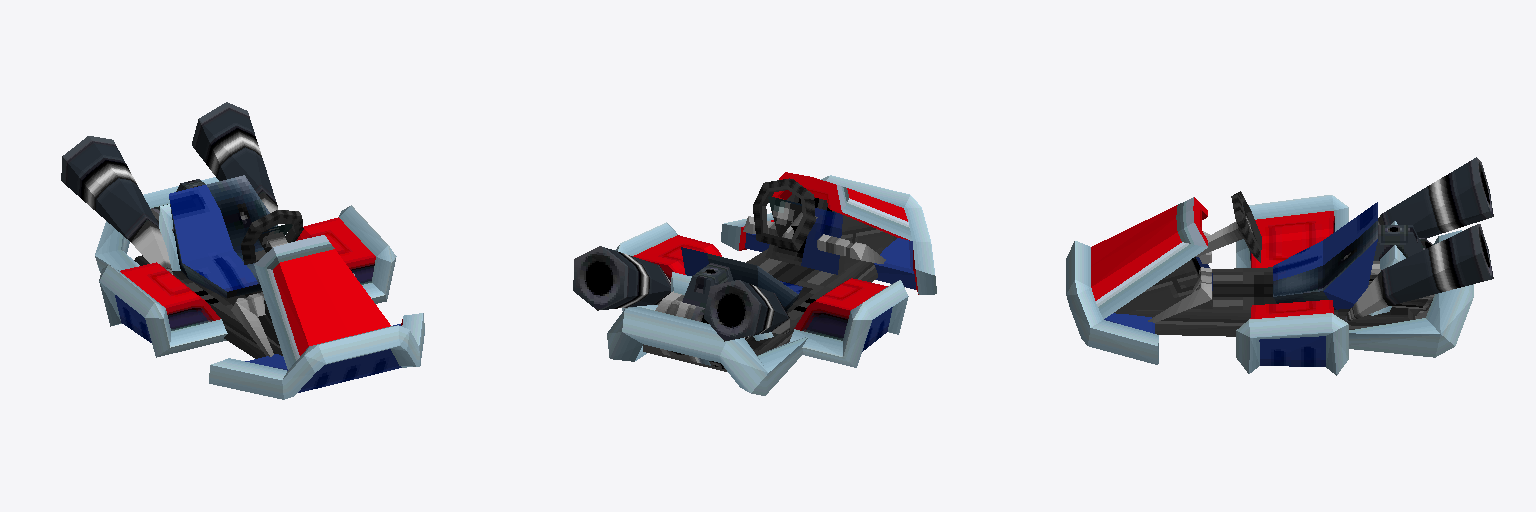
3 renders of one model, left to right at view 1: azimuth 30°, elevation 25°; view 2: azimuth 150°, elevation 25°; view 3: azimuth 270°, elevation 25°, orthographic.
Parts seen in each view (by area): view 1: _1_0_node__1_0, _0_0_node__0_0; view 2: _1_0_node__1_0, _0_0_node__0_0; view 3: _1_0_node__1_0, _0_0_node__0_0.
Boxes of the visible parts, x1=… form: _1_0_node__1_0: x1=61, y1=102, x2=424, y2=399; _0_0_node__0_0: x1=241, y1=210, x2=303, y2=264; _1_0_node__1_0: x1=573, y1=172, x2=936, y2=395; _0_0_node__0_0: x1=753, y1=178, x2=817, y2=250; _1_0_node__1_0: x1=1066, y1=157, x2=1493, y2=375; _0_0_node__0_0: x1=1195, y1=191, x2=1261, y2=262.
Size of the model in its own units: 14.34 by 6.85 by 20.33.
Materials: 3 (1 with a texture image).